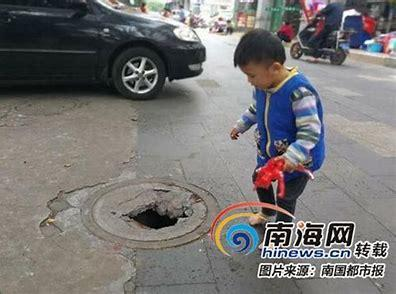wellcover: (99, 168, 213, 251)
